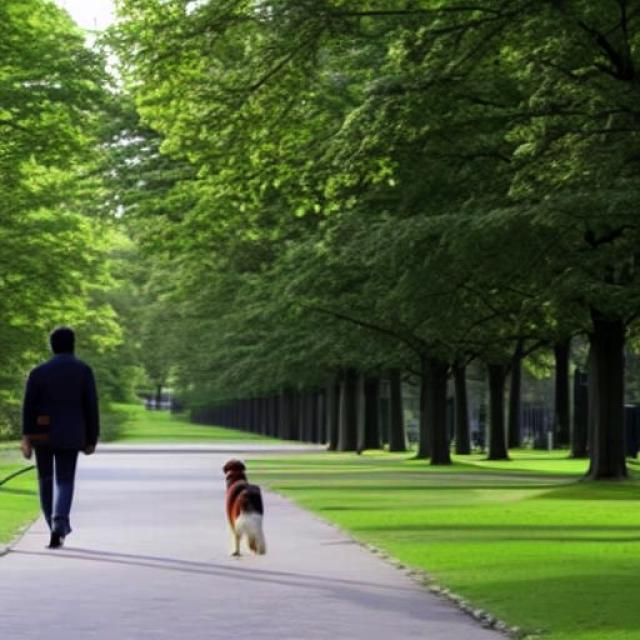Unleashed_Dog: (37, 419, 267, 559)
